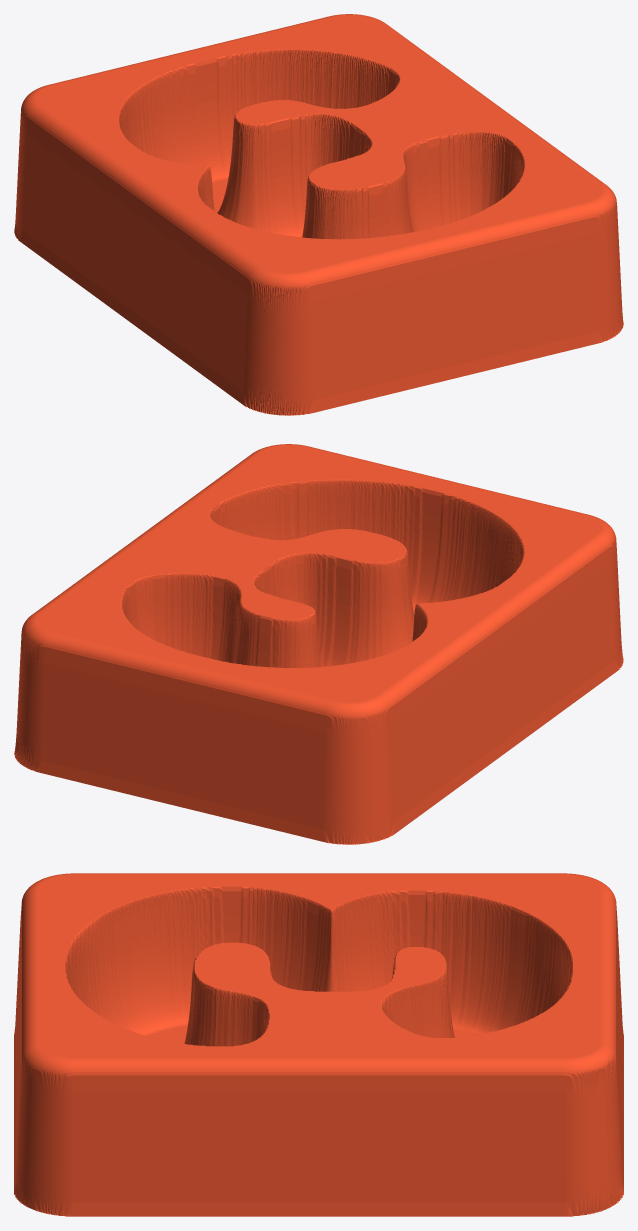
File: mold.glb
3 views of the same model, one above another, from view 1: azimuth 30°, elevation 25°; view 2: azimuth 150°, elevation 25°; view 3: azimuth 270°, elevation 25° (orthographic). The views are drawn at different scales.
Parts seen in each view (by area): view 1: geometry_0; view 2: geometry_0; view 3: geometry_0.
Part boxes in pixels (x1,y1,x2,y2): geometry_0: (14,14,623,415); geometry_0: (14,444,623,844); geometry_0: (14,873,623,1216).
Bounding box in the file's own units: 0.0728 × 0.0248 × 0.0924.
